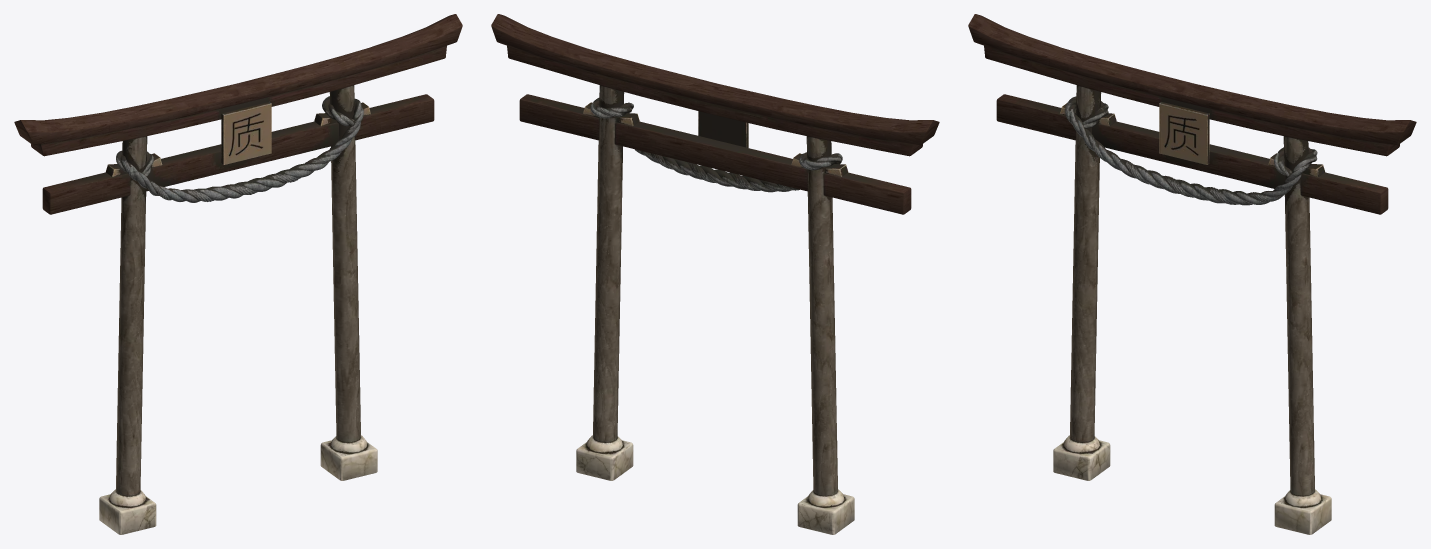
File: japanese_entrance_the_passage.glb
3 renders of one model, left to right at view 1: azimuth 30°, elevation 25°; view 2: azimuth 150°, elevation 25°; view 3: azimuth 330°, elevation 25°, orthographic.
Visible parts, largest first — view 1: Cube__0; view 2: Cube__0; view 3: Cube__0.
Part boxes in pixels (x1=…): Cube__0: x1=14, y1=14, x2=462, y2=534; Cube__0: x1=491, y1=14, x2=939, y2=534; Cube__0: x1=968, y1=14, x2=1416, y2=534.
Bounding box in the file's own units: 423 × 398 × 37.4.
1 material, 1 textured.
